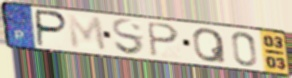0: (230, 31, 259, 68)
M: (66, 13, 110, 53)
P: (35, 8, 70, 49), (146, 21, 181, 58)
Q: (191, 27, 228, 64)
S: (110, 18, 147, 57)
